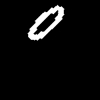chain: (28, 5, 63, 39)
